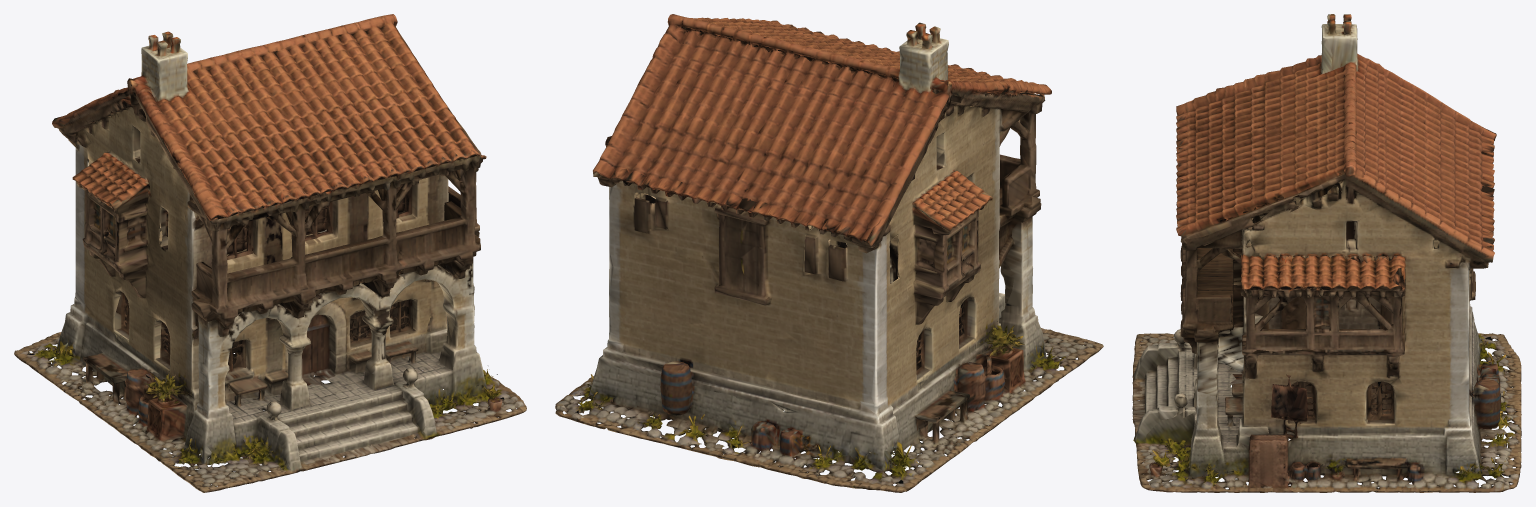
Rendered from SM_CentroDeGobierno.fbx.
3 views of the same model, side by side, from view 1: azimuth 30°, elevation 25°; view 2: azimuth 150°, elevation 25°; view 3: azimuth 270°, elevation 25° (orthographic). The views are drawn at different scales.
Visible parts, largest first — view 1: SM_CentroDeGobierno; view 2: SM_CentroDeGobierno; view 3: SM_CentroDeGobierno.
Part boxes in pixels (box(x1,y1,x2,y2)): SM_CentroDeGobierno: box(14, 14, 526, 492); SM_CentroDeGobierno: box(555, 14, 1103, 492); SM_CentroDeGobierno: box(1132, 14, 1521, 492).
Size of the model in its own units: 96.63 by 99.15 by 99.94.
Materials: 1 (1 with a texture image).
